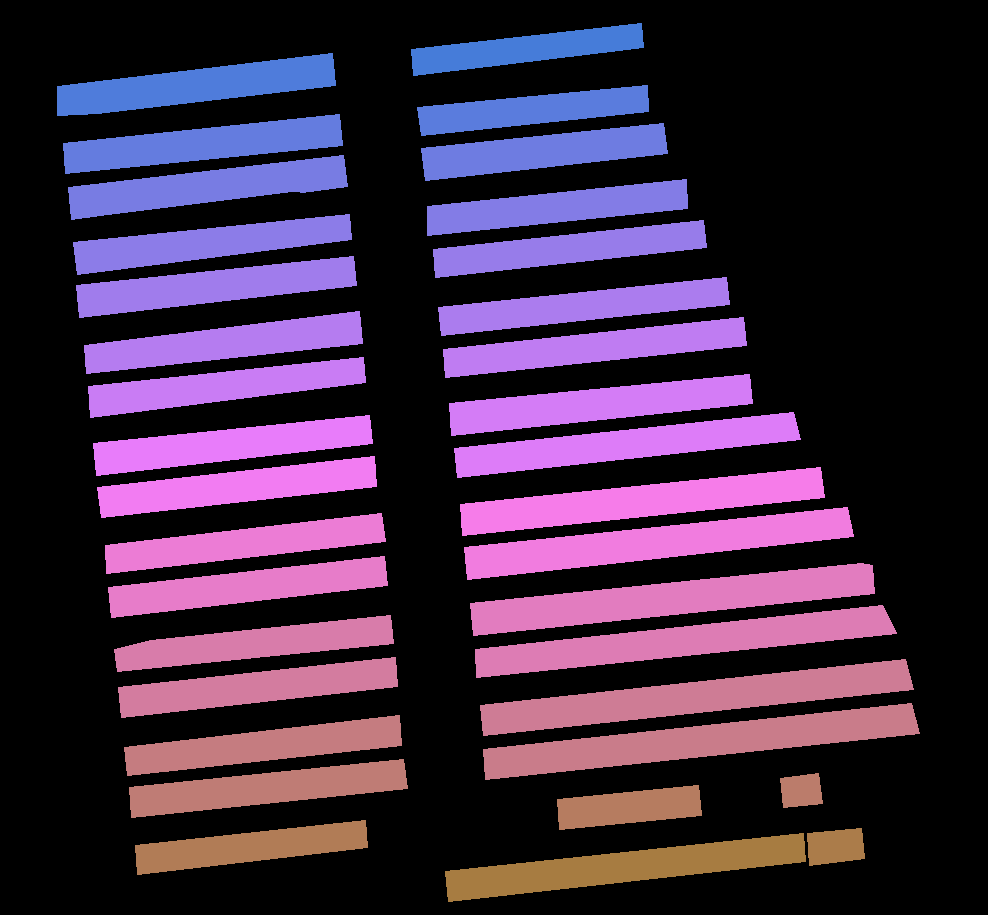parkingspot: (483, 703, 919, 779), (480, 659, 913, 735), (475, 605, 896, 677), (470, 563, 874, 635), (464, 507, 853, 579), (460, 467, 824, 535), (445, 833, 805, 901), (454, 412, 800, 477), (449, 374, 752, 435), (443, 317, 746, 377), (68, 155, 347, 219), (57, 53, 335, 115), (84, 311, 362, 373), (76, 256, 356, 317), (97, 456, 376, 517), (108, 556, 387, 617), (438, 277, 729, 335), (105, 513, 385, 573), (93, 415, 372, 475), (118, 657, 397, 717), (73, 214, 351, 274), (88, 357, 365, 417), (124, 715, 401, 775), (63, 114, 342, 173), (129, 759, 407, 817), (114, 615, 393, 671), (433, 220, 706, 277), (427, 179, 687, 235), (421, 123, 667, 180), (135, 820, 367, 874), (411, 23, 643, 75), (417, 85, 648, 135), (557, 785, 701, 829), (807, 828, 864, 865), (780, 773, 822, 807)
